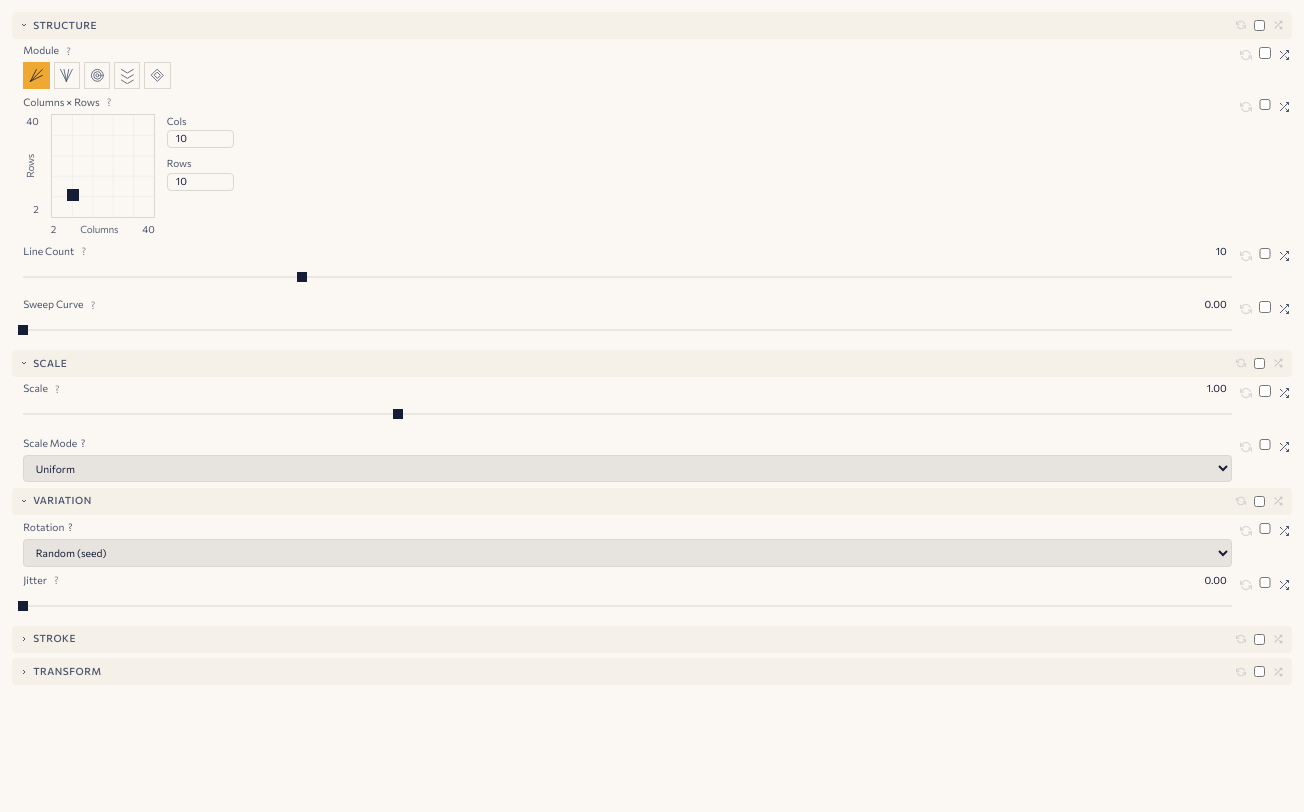
Test: PatternParams showIf conditional visibility › toggling the controlling param flips visibility
Expected: the slider labelled "Sweep Curve" is shown, [23,298,84,312]
Expected: the slider labelled "Chevron Depth" is not shown
Click the radio button named "Chevron".
click(127, 75)  # box [114,62,140,89]
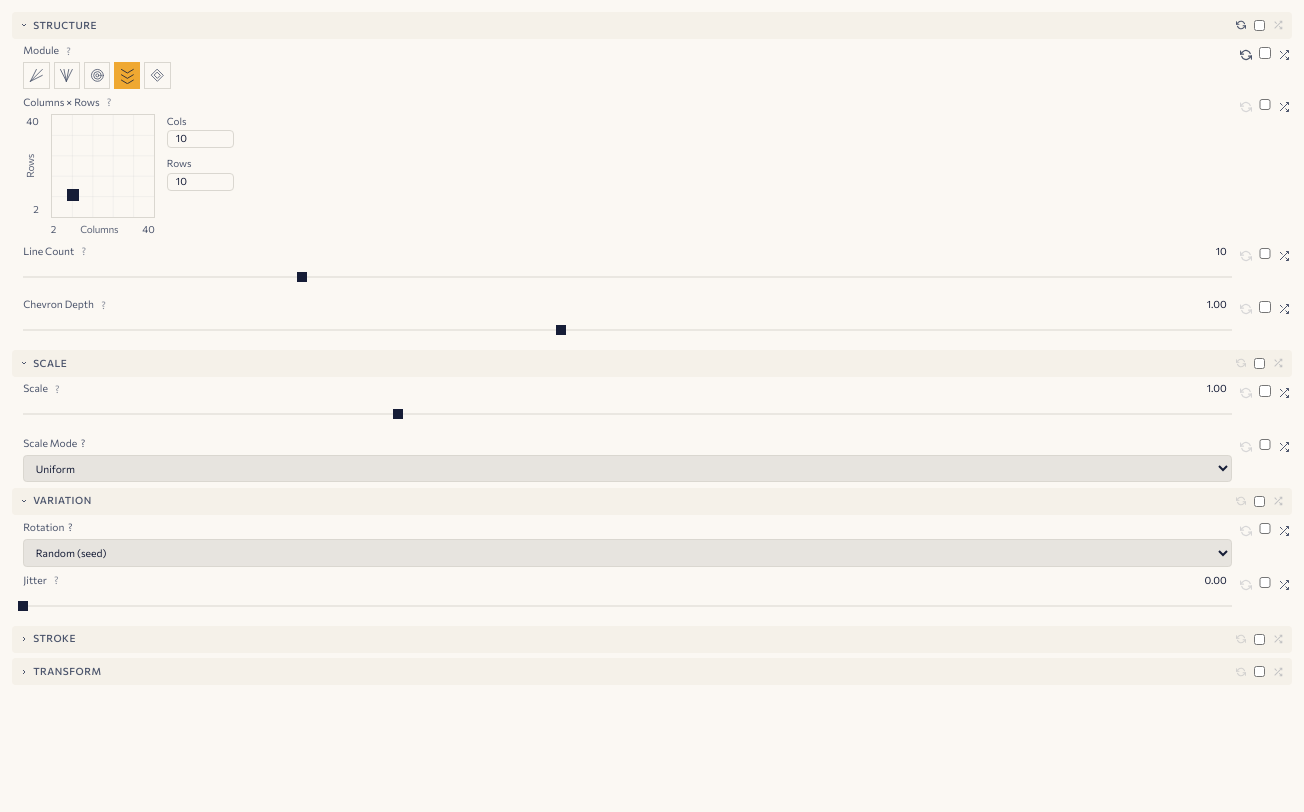
Now the slider labelled "Chevron Depth" is shown, box [23,298,94,312]
Now the slider labelled "Sweep Curve" is gone
